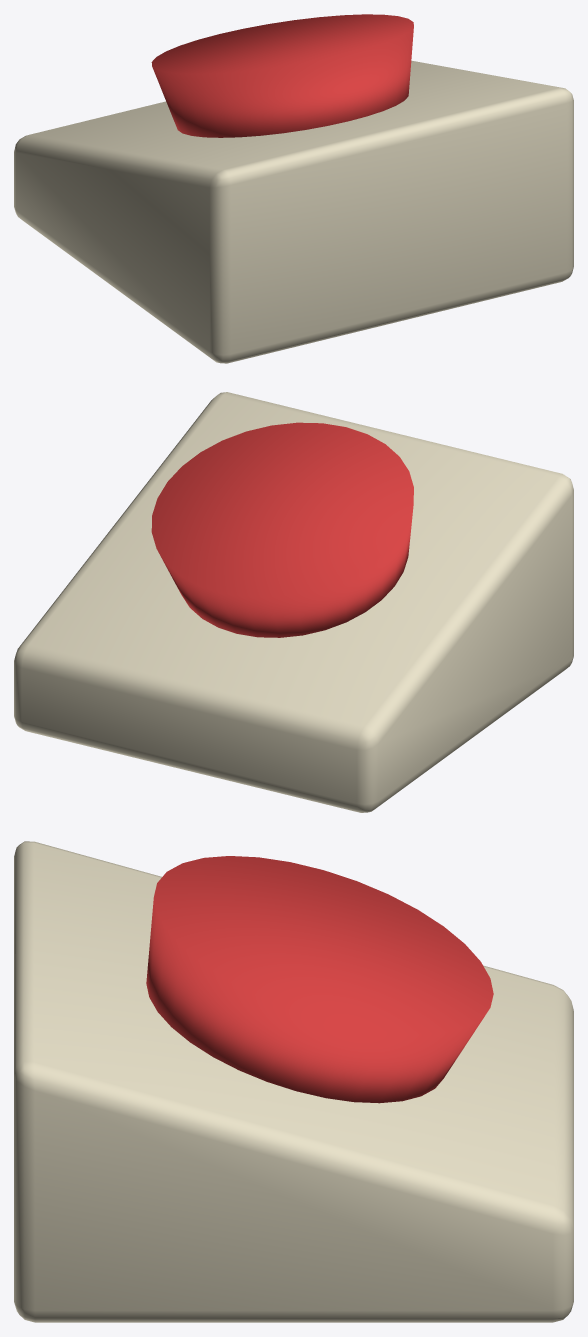
File: MathPBL_2025_Button.fbx
The picture shows the model from 3 angles, top to bottom: view 1: azimuth 30°, elevation 25°; view 2: azimuth 150°, elevation 25°; view 3: azimuth 270°, elevation 25°; orthographic projection. The views are drawn at different scales.
Parts seen in each view (by area): view 1: ButtonCube, ButtonCylinder; view 2: ButtonCube, ButtonCylinder; view 3: ButtonCube, ButtonCylinder.
Part boxes in pixels (x1,y1,x2,y2): ButtonCube: (14, 60, 573, 363); ButtonCylinder: (151, 14, 413, 137); ButtonCube: (14, 392, 573, 812); ButtonCylinder: (151, 422, 413, 637); ButtonCube: (14, 841, 573, 1322); ButtonCylinder: (146, 856, 493, 1103).
Size of the model in its own units: 77 by 47.69 by 77.
